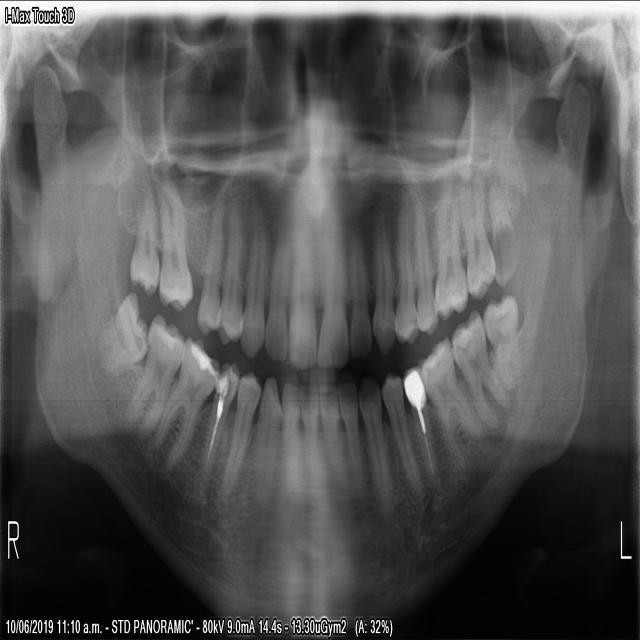LCD: (357, 371, 394, 521)
LCU: (371, 215, 394, 355)
LID: (335, 380, 364, 503), (316, 381, 348, 489)
LIU: (315, 220, 347, 366), (347, 230, 371, 360)
LMD: (415, 332, 482, 480), (449, 308, 511, 428), (481, 292, 522, 391)
LMU: (432, 190, 467, 320), (461, 174, 494, 299), (486, 177, 518, 286)
LPMD: (379, 372, 421, 508), (400, 365, 441, 494)
LPMU: (392, 209, 417, 344), (412, 206, 436, 334)
RCD: (250, 374, 280, 517)
RCU: (236, 216, 265, 360)
RID: (298, 384, 322, 499), (279, 379, 299, 515)
RIU: (285, 232, 315, 370), (263, 229, 287, 363)
RMD: (144, 332, 218, 472), (123, 311, 184, 438), (92, 290, 147, 376)
RMU: (156, 180, 192, 314), (127, 178, 158, 299)
RPMD: (195, 358, 239, 502), (215, 368, 260, 502)
RPMU: (213, 202, 242, 346), (194, 198, 222, 333)
